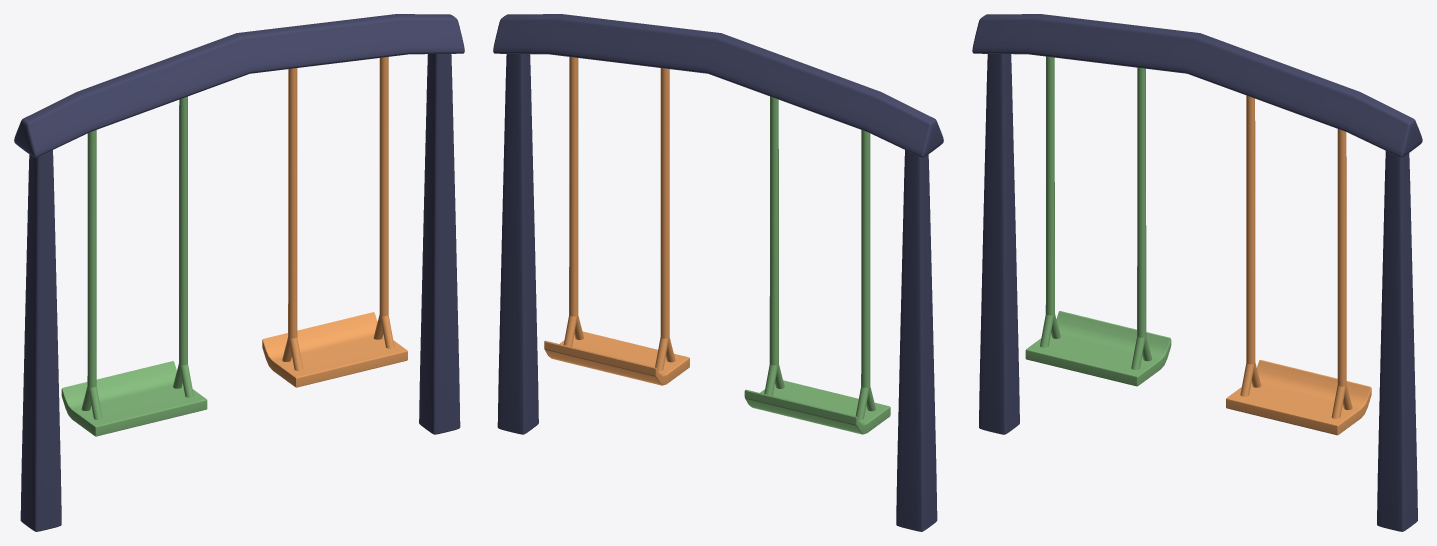
File: Swing.fbx
3 renders of one model, left to right at view 1: azimuth 30°, elevation 25°; view 2: azimuth 150°, elevation 25°; view 3: azimuth 330°, elevation 25°, orthographic.
Parts seen in each view (by area): view 1: Swing_wood, Swing_seat, Swing_Rope; view 2: Swing_wood, Swing_Rope, Swing_seat; view 3: Swing_wood, Swing_seat, Swing_Rope.
Part boxes in pixels (x1,y1,x2,y2): Swing_wood: (14, 14, 464, 531); Swing_seat: (61, 312, 407, 436); Swing_Rope: (81, 57, 394, 419); Swing_wood: (493, 14, 943, 531); Swing_Rope: (563, 57, 875, 419); Swing_seat: (544, 331, 890, 434); Swing_wood: (972, 14, 1422, 531); Swing_seat: (1025, 311, 1371, 435); Swing_Rope: (1040, 56, 1352, 418).
Bounding box in the file's own units: 43.33 × 42.24 × 5.93.
Materials: 3 (3 with a texture image).
